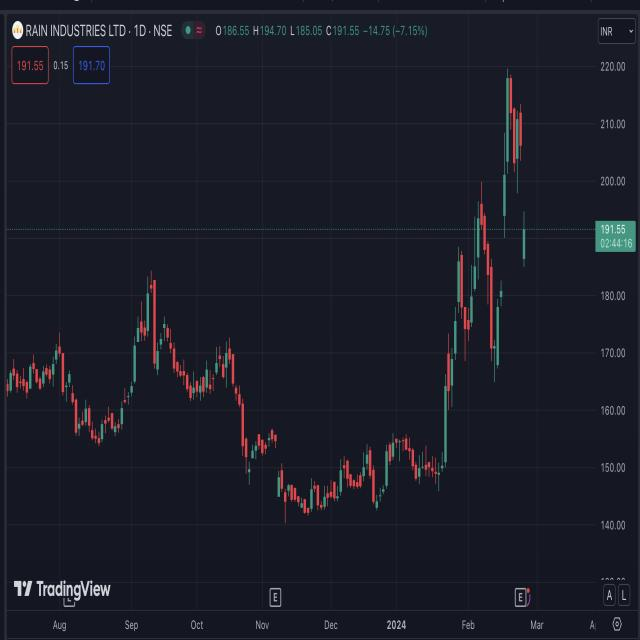Gap Down: (518, 101, 536, 288), (272, 421, 283, 513)
Gap Up: (498, 138, 511, 311)
